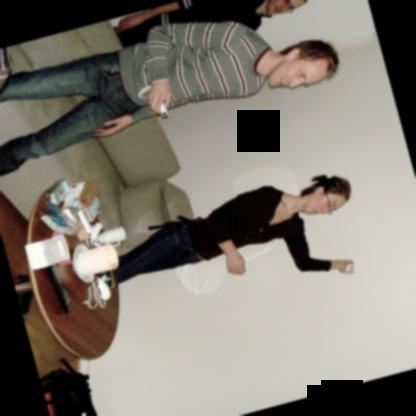backpack: (39, 367, 98, 416)
